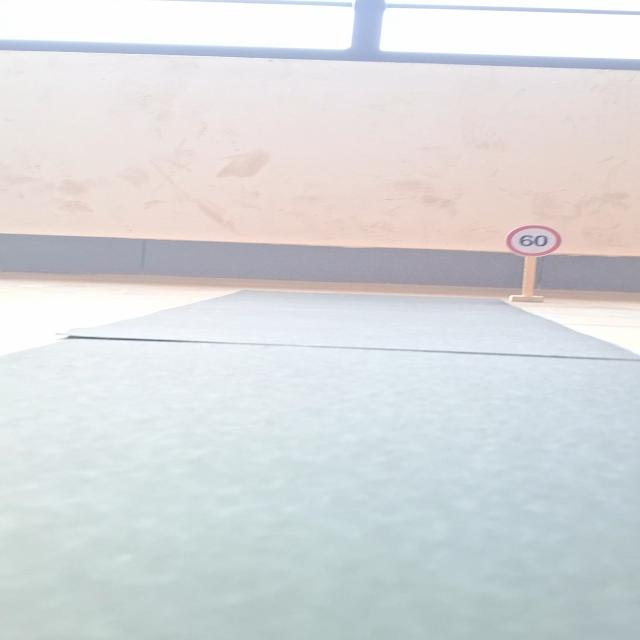Speed60: (501, 223, 563, 258)
